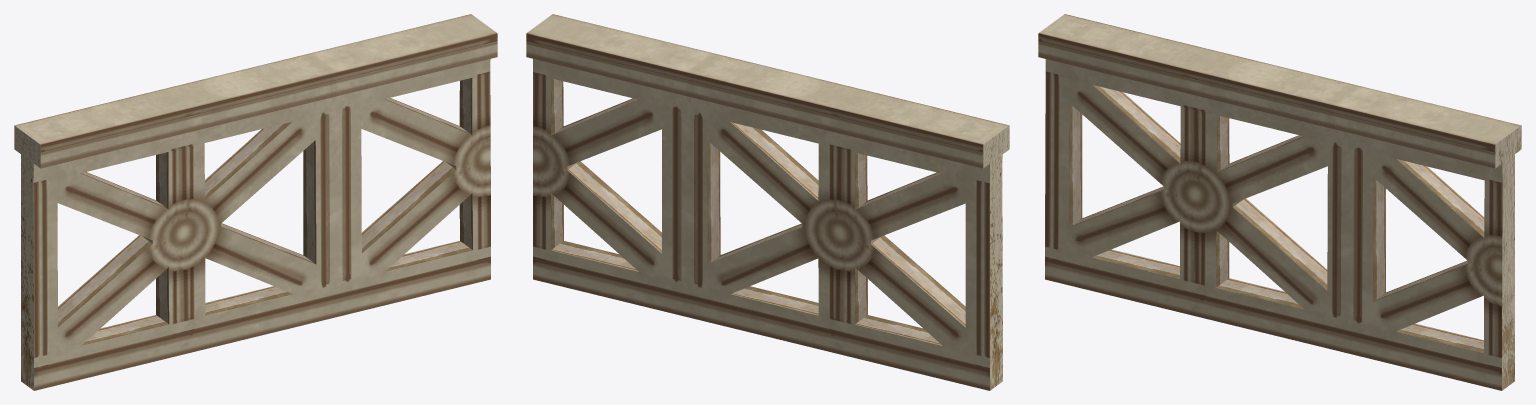
File: svspartarail7.dae
3 renders of one model, left to right at view 1: azimuth 30°, elevation 25°; view 2: azimuth 150°, elevation 25°; view 3: azimuth 330°, elevation 25°, orthographic.
Visible parts, largest first — view 1: unnamed_object29_cut34-0; view 2: unnamed_object29_cut34-0; view 3: unnamed_object29_cut34-0.
Boxes of the visible parts, x1,y1,x2,y2 form: unnamed_object29_cut34-0: (14,14,497,390); unnamed_object29_cut34-0: (526,14,1009,390); unnamed_object29_cut34-0: (1038,14,1521,390).
Size of the model in its own units: 200 by 105 by 20.
